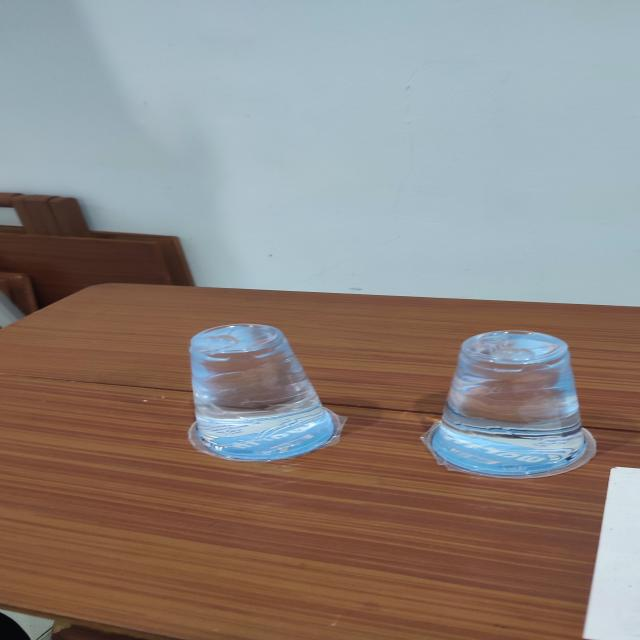air gelas: (417, 329, 609, 476), (178, 309, 354, 465)
